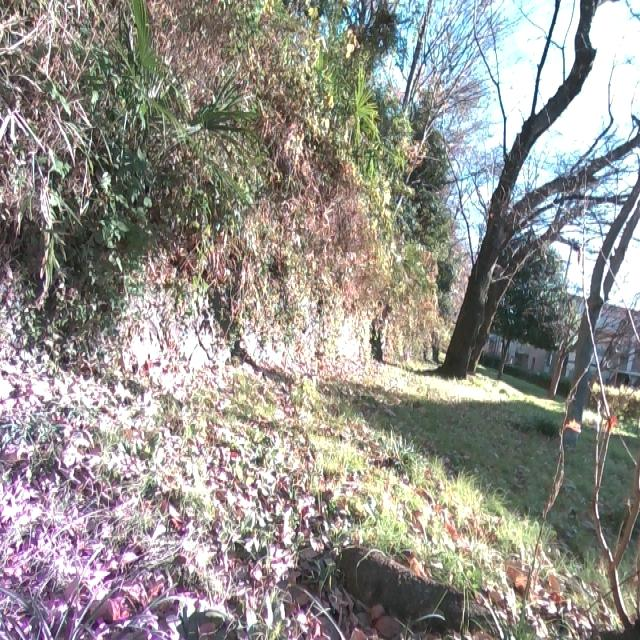bush: (0, 53, 255, 359)
tree: (422, 0, 635, 387), (547, 156, 640, 454)
